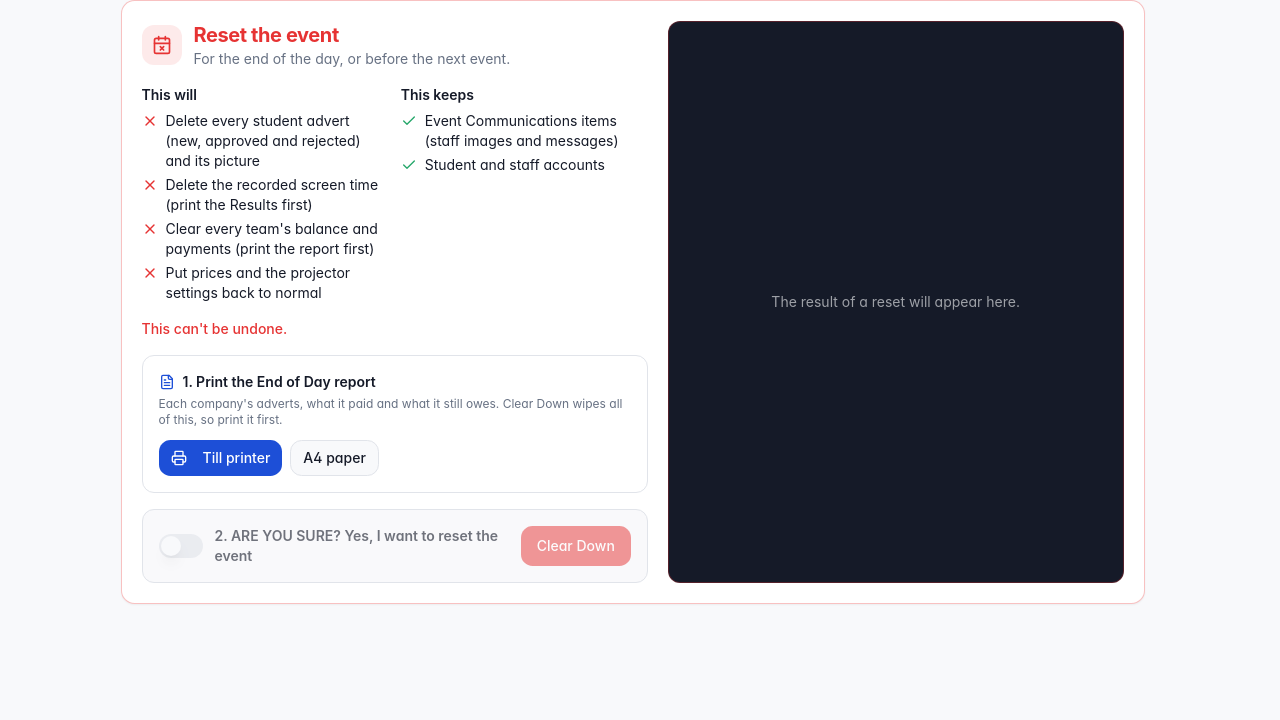
EventResetPanel (issue #34) › needs 'clear down' typed before the final confirm works
Step 1. Click the button "Till printer" → [220, 458], box [158,440,282,476]
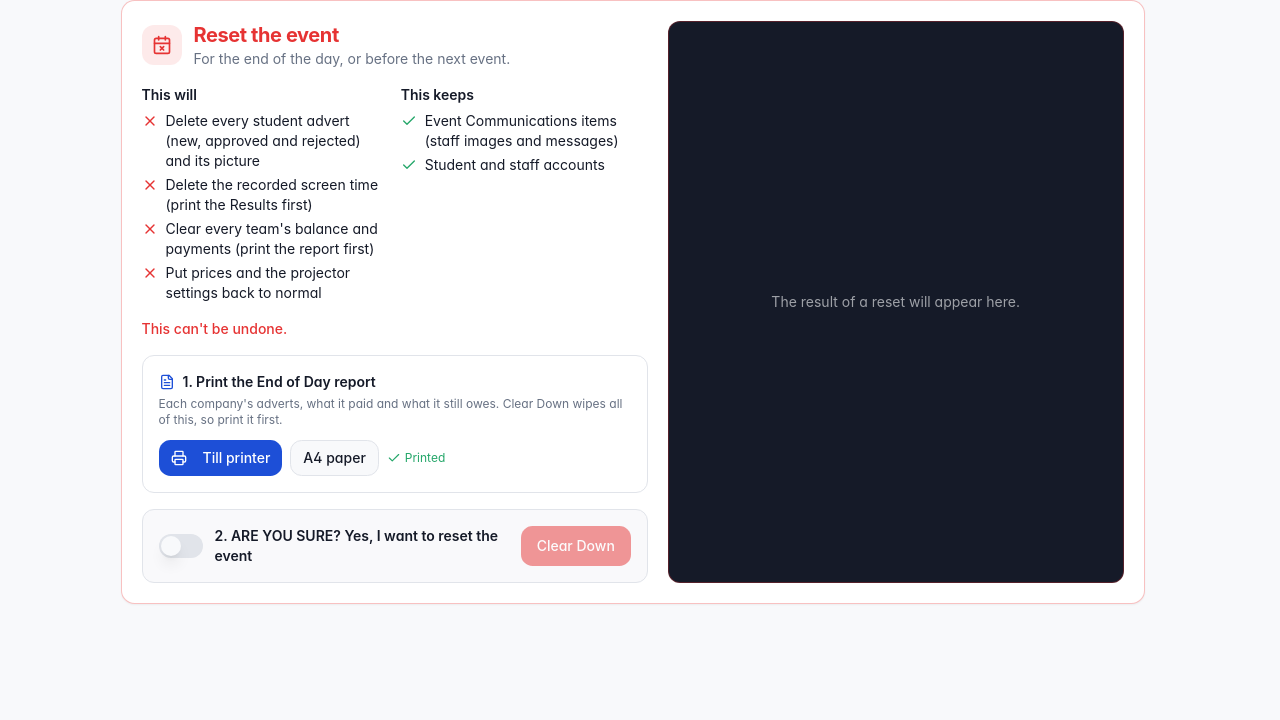
Step 2. Click the switch named "reset the event" → [180, 546], box [158,534,202,558]
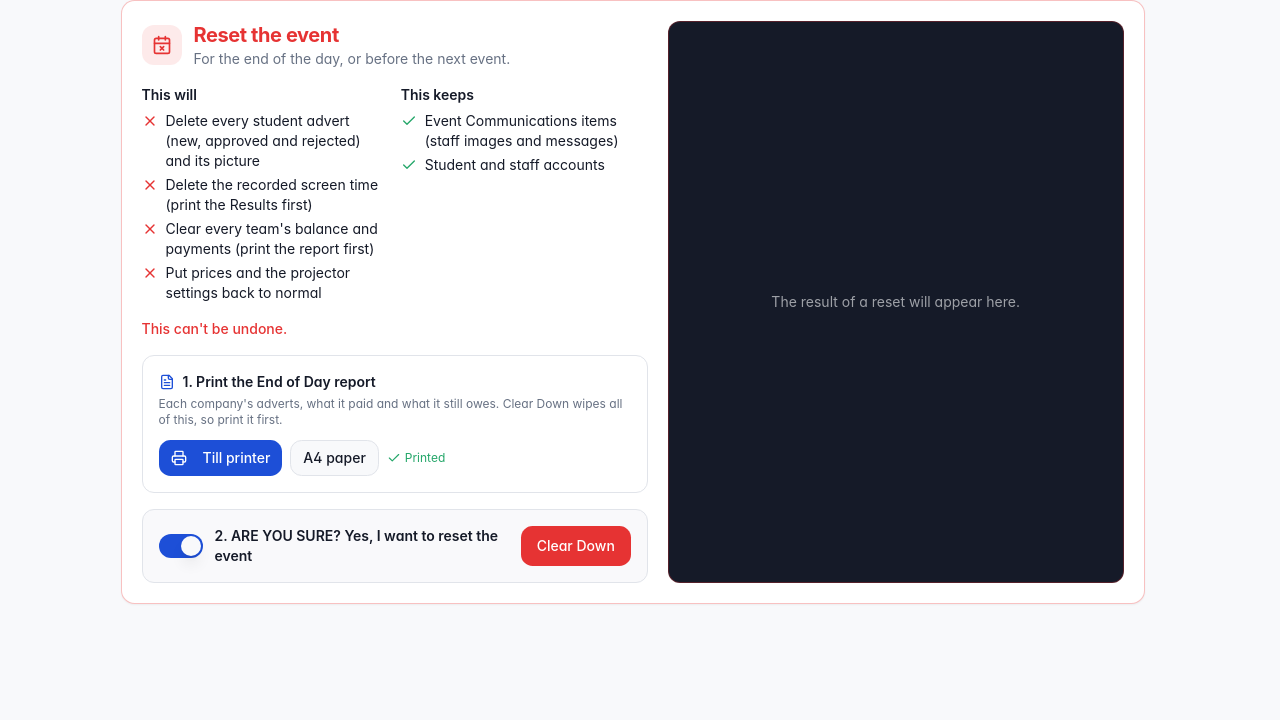
Step 3. Click the button "Clear Down" → [576, 546], box [521,526,631,566]
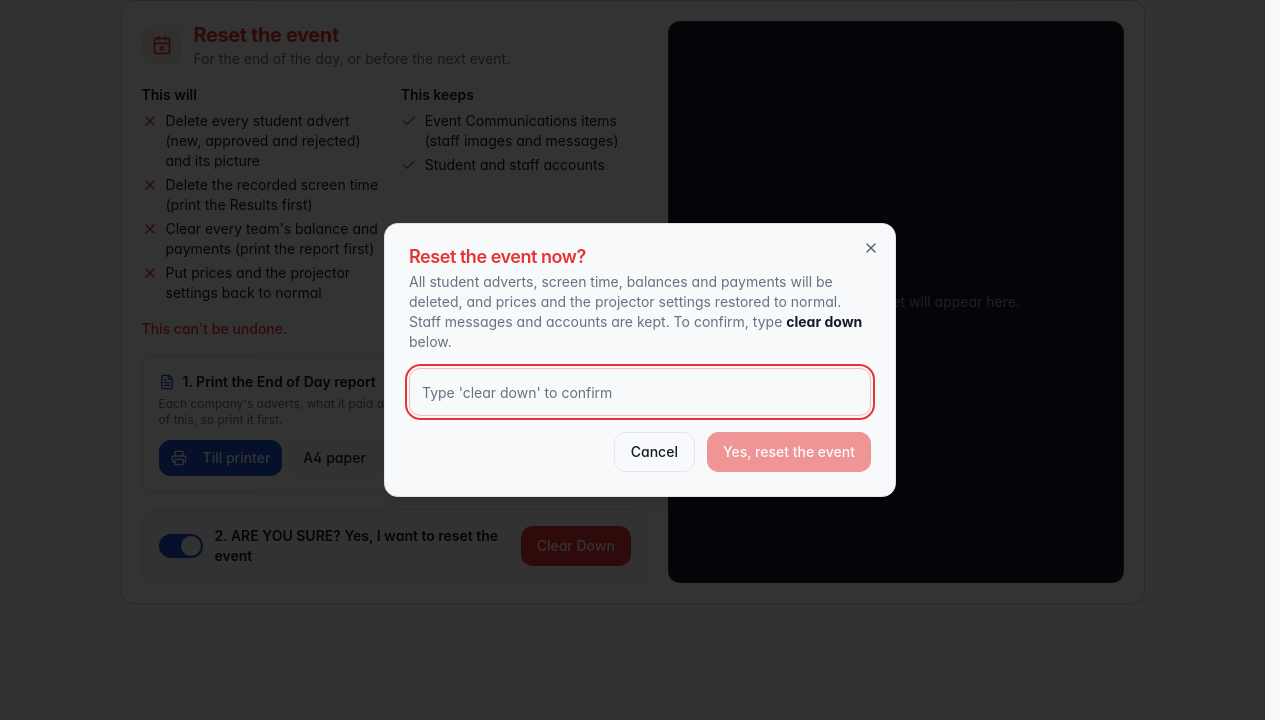
Expected: the button "Yes, reset the event" is disabled, [707,432,871,472]
Step 4. Type "clear" into the field named "type clear down to confirm" → [640, 392], box [409,368,871,416]
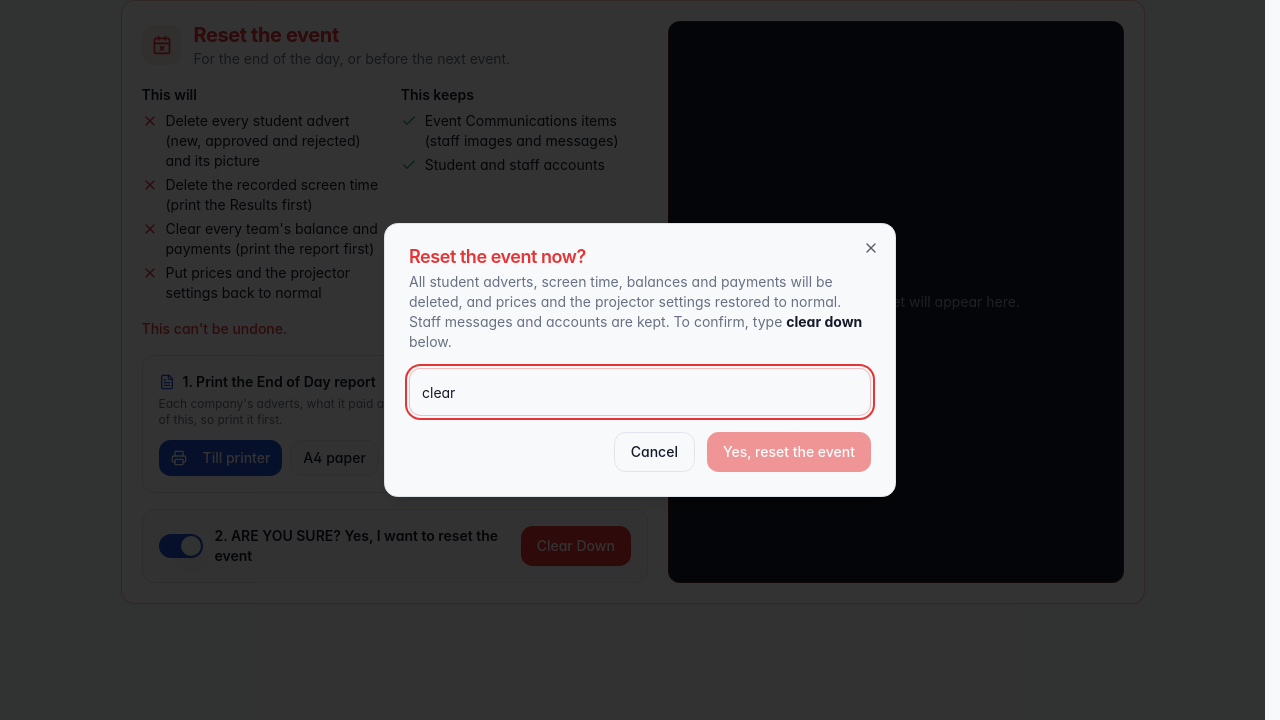
Expected: the button "Yes, reset the event" is disabled, [707,432,871,472]
Step 5. Replace the text in the field named "type clear down to confirm" with " Clear Down " → [640, 392], box [409,368,871,416]
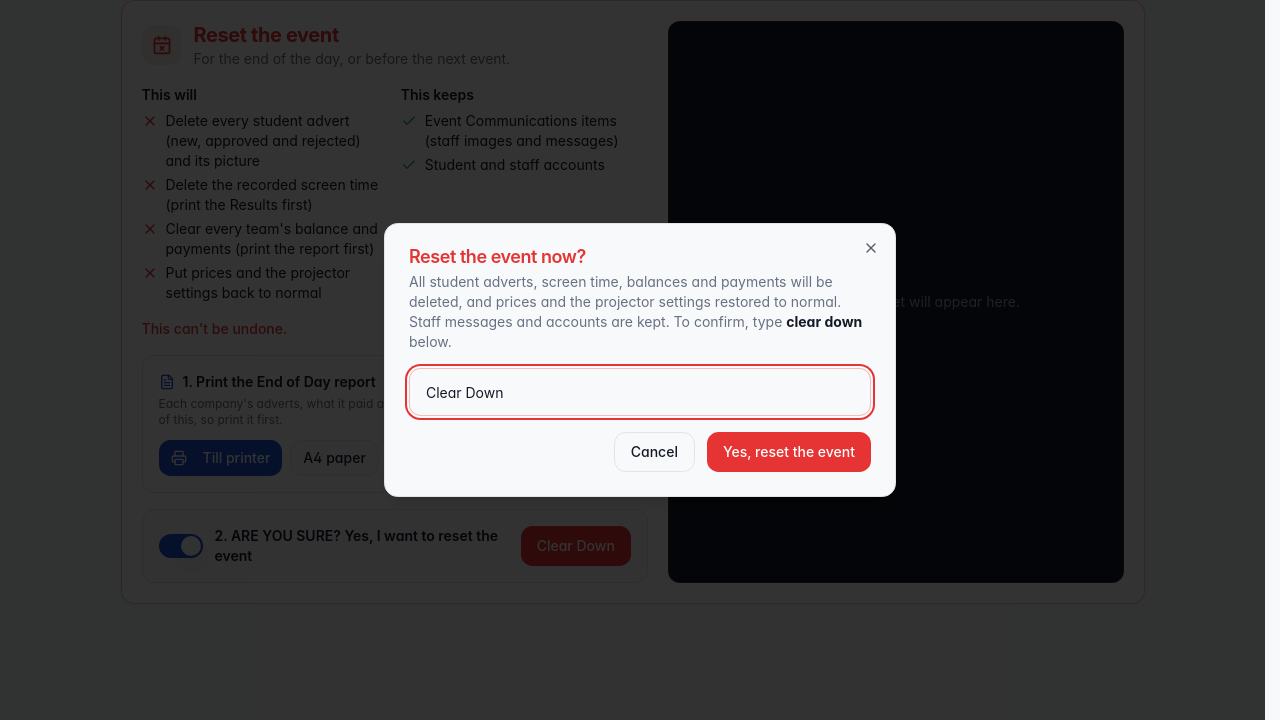
Expected: the button "Yes, reset the event" is enabled, [707,432,871,472]
